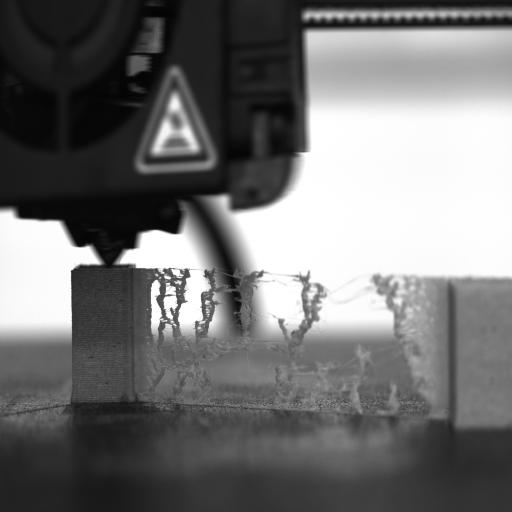spaghetti_and_stringing: (140, 266, 328, 407), (150, 267, 190, 349)
